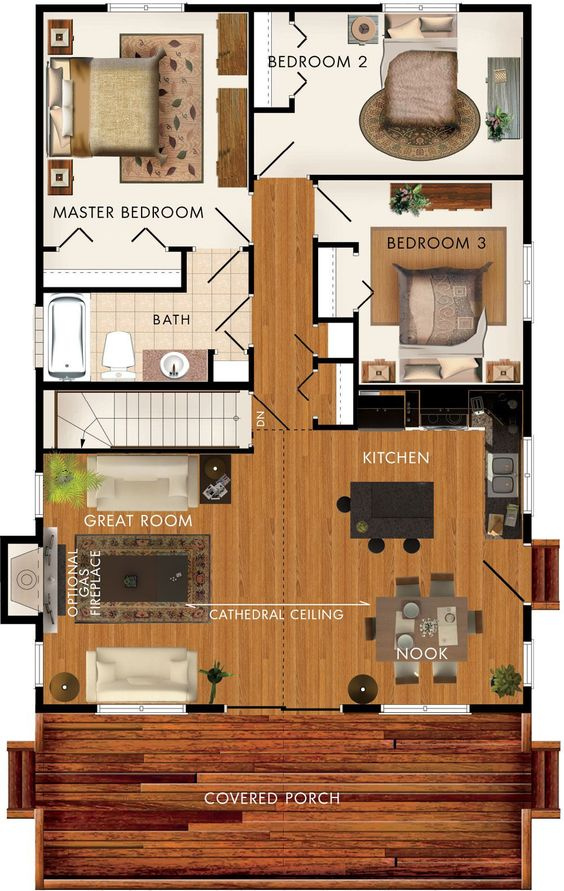room: (37, 5, 253, 252), (247, 2, 531, 180), (352, 173, 532, 388), (34, 285, 254, 388)
window: (519, 242, 534, 320), (107, 2, 185, 13), (381, 2, 459, 13)
